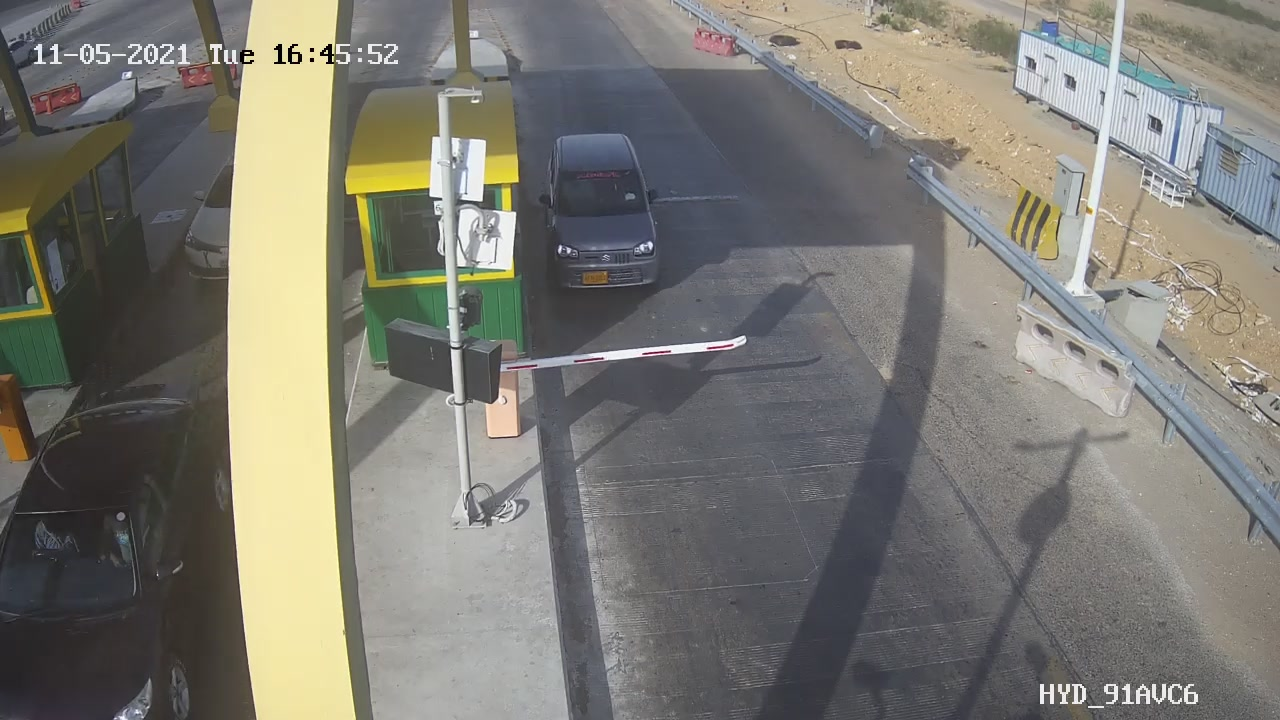F1: (521, 122, 681, 308)
